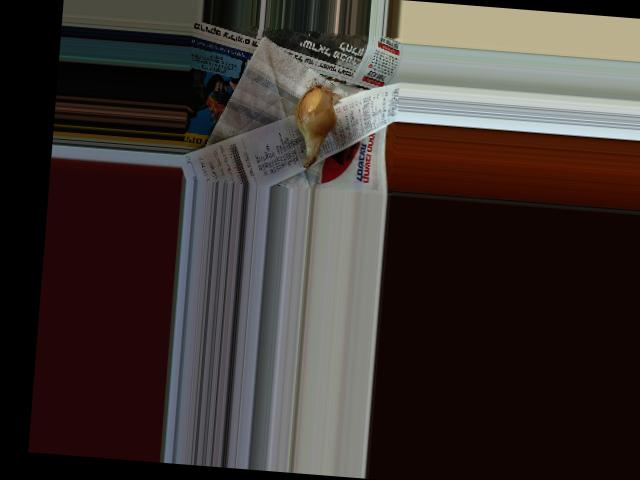onion: (289, 79, 337, 147)
